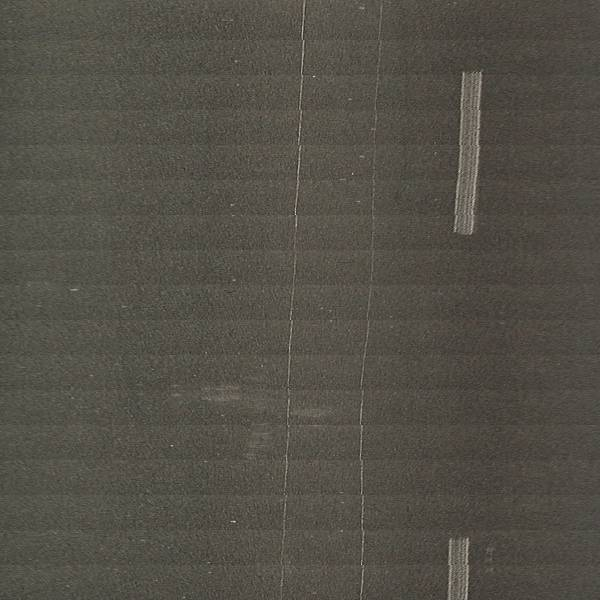road_damage: (273, 1, 312, 600)
